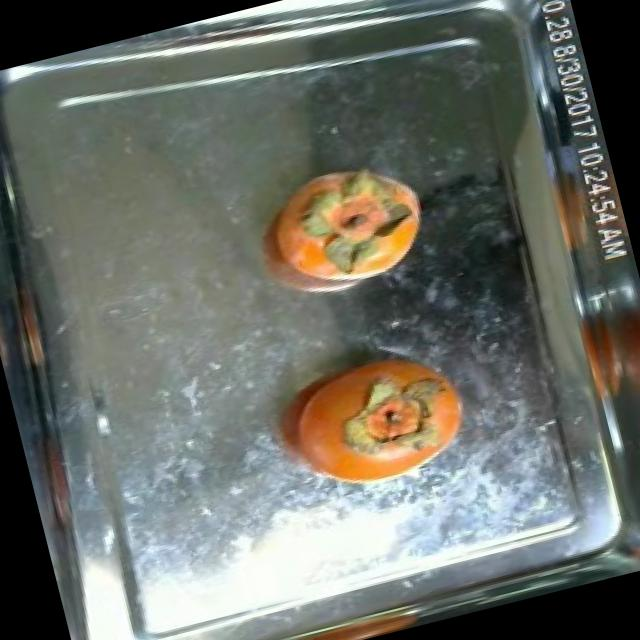Fruit: (252, 136, 446, 302), (308, 326, 488, 494)
